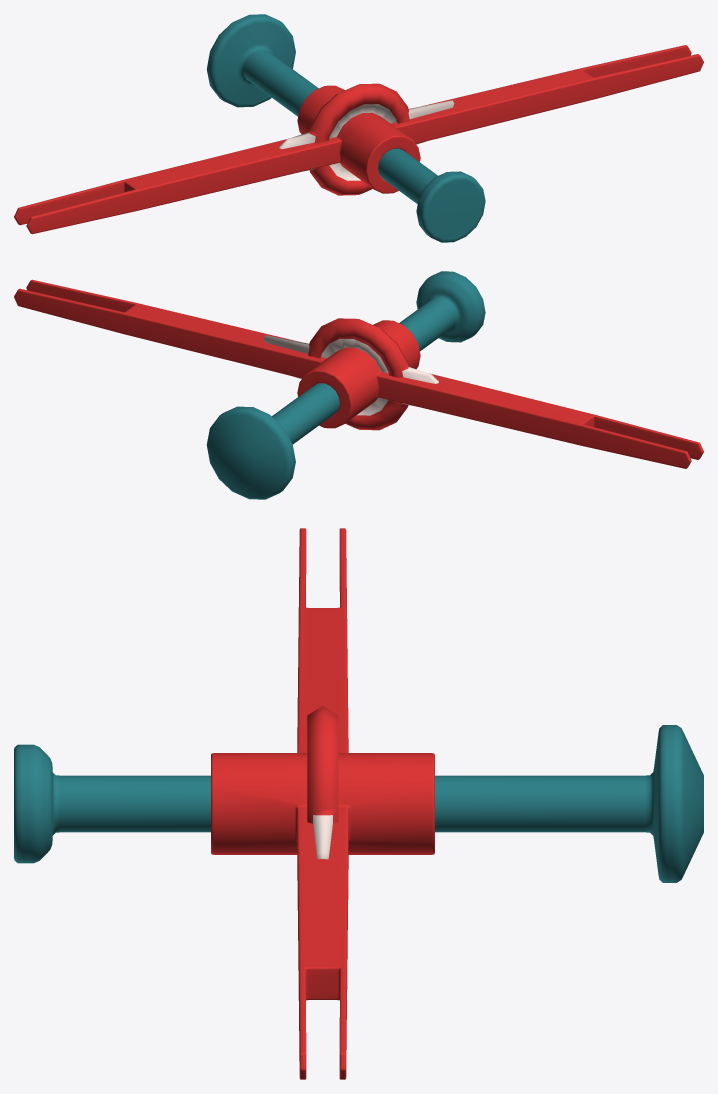
The model's file is Cutter3.fbx.
3 renders of one model, top to bottom at view 1: azimuth 30°, elevation 25°; view 2: azimuth 150°, elevation 25°; view 3: azimuth 270°, elevation 25°, orthographic. The views are drawn at different scales.
Visible parts, largest first — view 1: Cylinder.007, Cylinder.006, Cylinder.005; view 2: Cylinder.007, Cylinder.006, Cylinder.005; view 3: Cylinder.007, Cylinder.006, Cylinder.005.
Boxes of the visible parts, x1=… form: Cylinder.007: x1=14, y1=45, x2=703, y2=234; Cylinder.006: x1=206, y1=14, x2=485, y2=242; Cylinder.005: x1=279, y1=83, x2=454, y2=195; Cylinder.007: x1=14, y1=279, x2=703, y2=468; Cylinder.006: x1=206, y1=271, x2=485, y2=499; Cylinder.005: x1=263, y1=318, x2=438, y2=430; Cylinder.007: x1=211, y1=528, x2=434, y2=1079; Cylinder.006: x1=14, y1=725, x2=703, y2=882; Cylinder.005: x1=307, y1=706, x2=338, y2=859.
Size of the model in its own units: 9.17 by 1.43 by 5.02.
